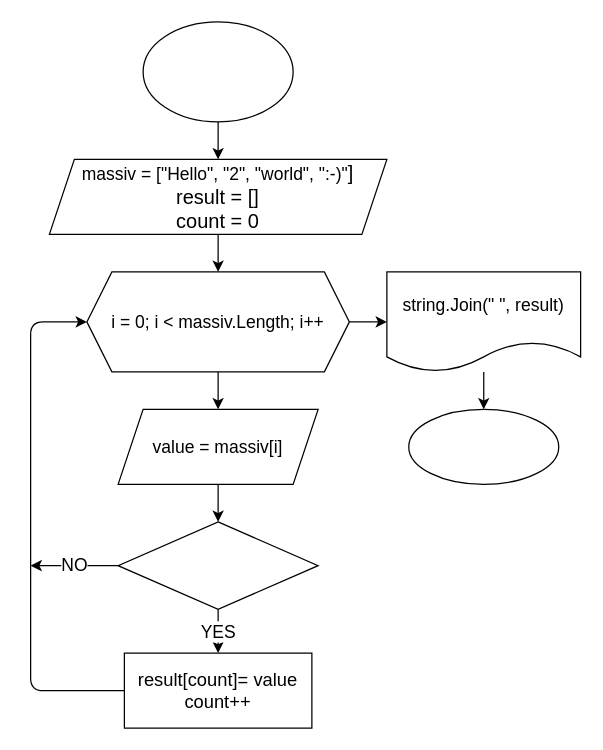
Image size: 603x750. Some labels were removed from this diagram. Here are the shapes that lost their labels. From the top down, the box of each, then its label:
(142, 21, 293, 122): Start
(408, 408, 559, 484): Finish
(117, 521, 318, 609): value.Length <= 3
